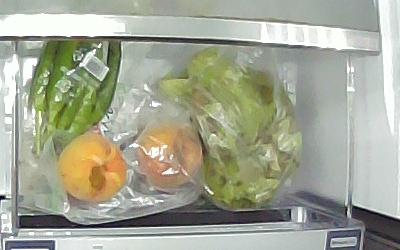peach: (58, 132, 126, 201)
peach_vinyl: (138, 125, 203, 189)
